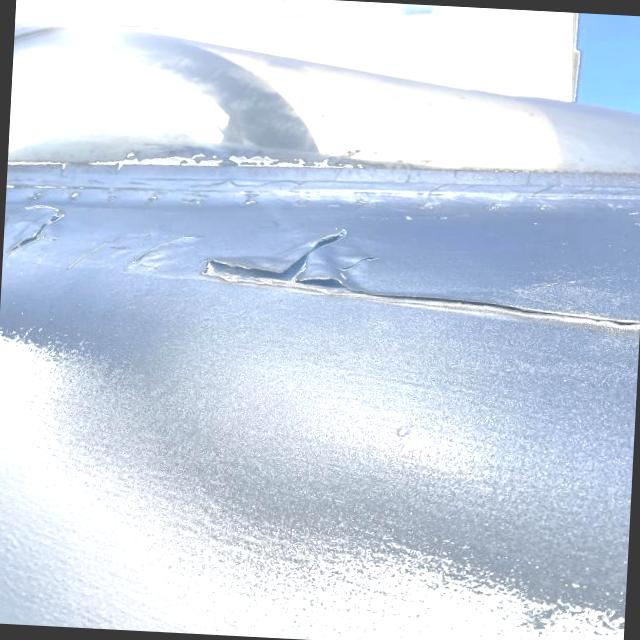crack: (66, 225, 191, 281), (328, 256, 379, 281), (518, 280, 572, 299)
